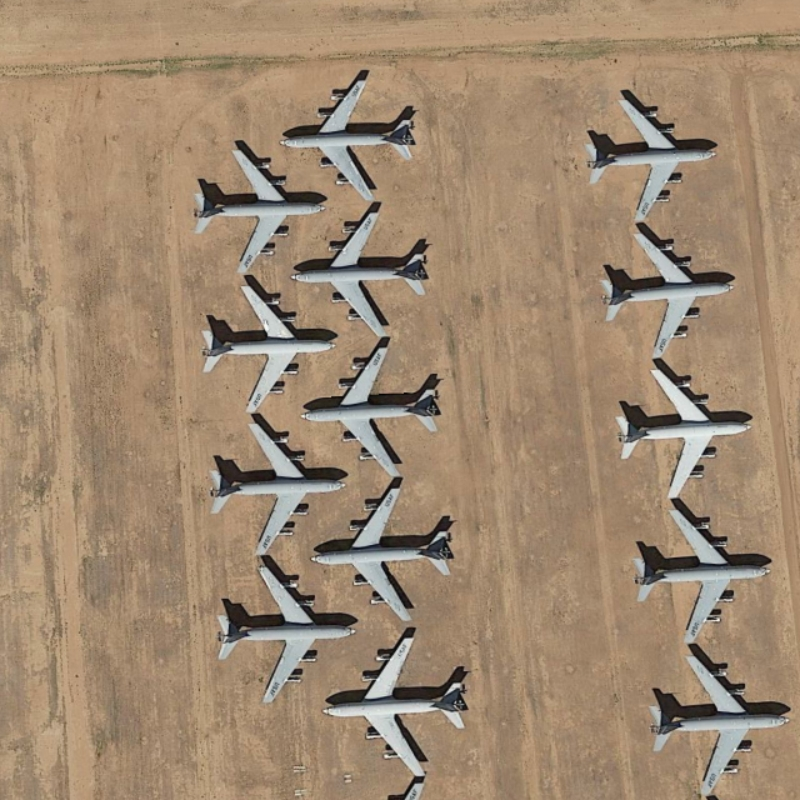A14: (615, 498, 778, 653), (317, 628, 476, 786), (298, 334, 465, 481), (198, 555, 357, 708), (311, 475, 466, 629), (643, 644, 796, 800), (274, 61, 434, 206), (587, 225, 749, 365), (581, 76, 731, 227), (606, 363, 755, 503), (206, 415, 344, 561), (195, 275, 337, 414), (291, 205, 437, 340), (193, 139, 328, 275)
